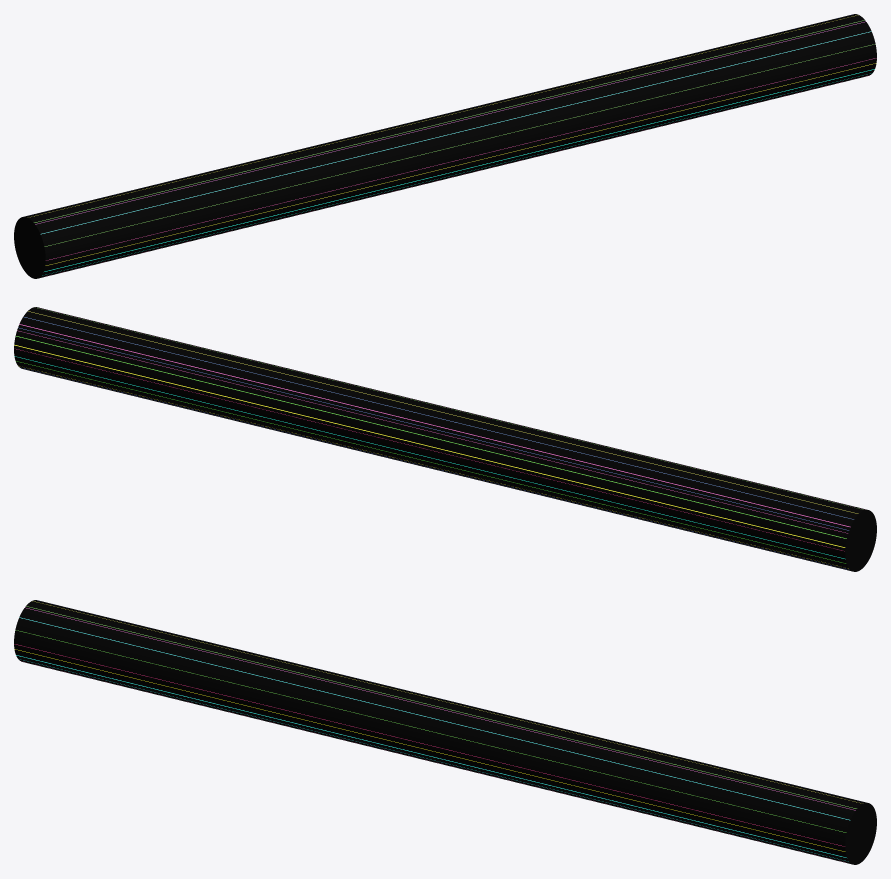
Rendered from niveau3.fbx.
3 renders of one model, top to bottom at view 1: azimuth 30°, elevation 25°; view 2: azimuth 150°, elevation 25°; view 3: azimuth 330°, elevation 25°, orthographic.
Visible parts, largest first — view 1: Cylindre; view 2: Cylindre; view 3: Cylindre.
Part boxes in pixels (x1=…): Cylindre: x1=14, y1=14, x2=876, y2=278; Cylindre: x1=14, y1=307, x2=876, y2=571; Cylindre: x1=14, y1=600, x2=876, y2=864.
Bounding box in the file's own units: 181273 × 12000 × 12000.
